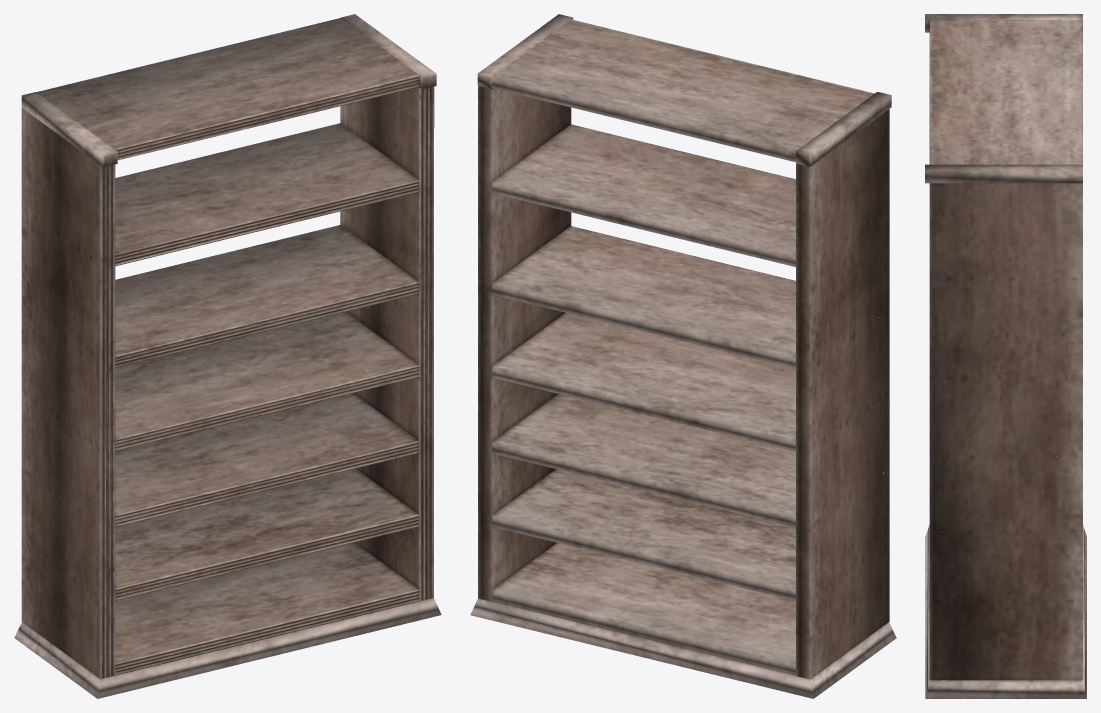
File: wooden_bookshelf_worn.glb
The picture shows the model from 3 angles, left to right: view 1: azimuth 30°, elevation 25°; view 2: azimuth 150°, elevation 25°; view 3: azimuth 270°, elevation 25°; orthographic projection. The views are drawn at different scales.
Visible parts, largest first — view 1: wooden_bookshelf_worn; view 2: wooden_bookshelf_worn; view 3: wooden_bookshelf_worn.
Part boxes in pixels (x1,y1,x2,y2): wooden_bookshelf_worn: (14,14,441,698); wooden_bookshelf_worn: (470,14,896,698); wooden_bookshelf_worn: (925,14,1086,698).
Bounding box in the file's own units: 1.37 × 2.06 × 0.5766.
1 material, 1 textured.
